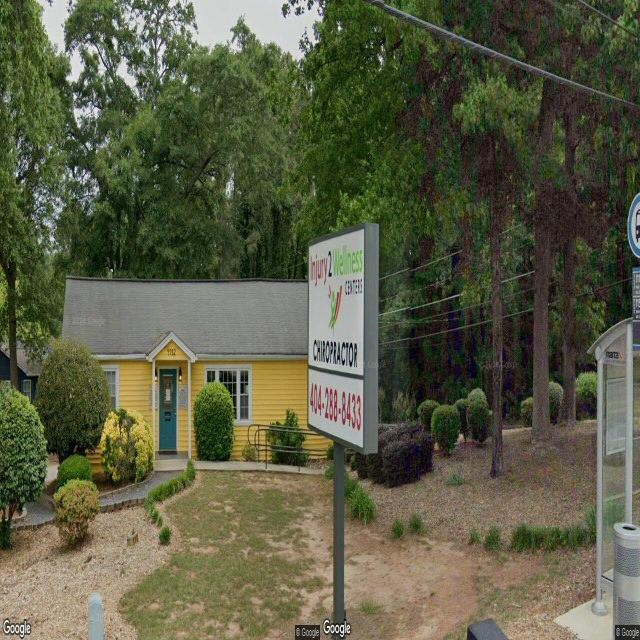shelter: (590, 318, 640, 632)
trash_can: (612, 522, 640, 638)
